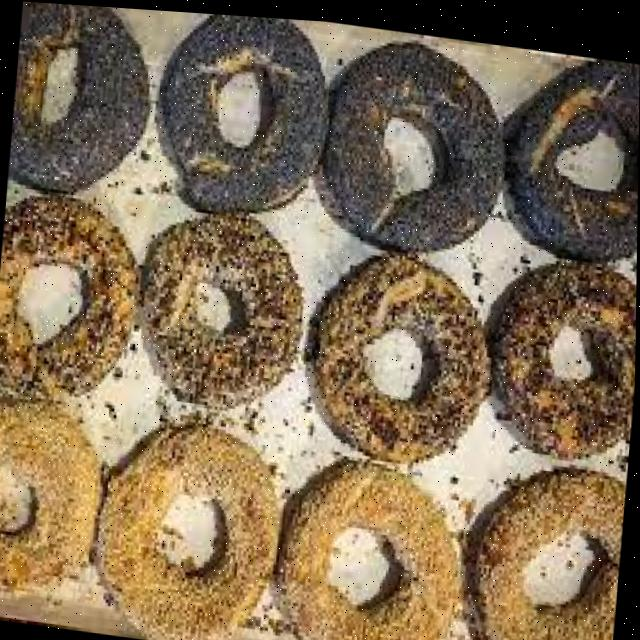Bagel: (97, 424, 276, 640), (313, 248, 491, 457), (318, 38, 500, 242), (278, 455, 459, 640), (158, 11, 327, 209), (142, 212, 301, 406), (493, 258, 637, 451), (503, 52, 640, 254), (475, 460, 627, 640), (0, 197, 138, 394), (8, 1, 147, 191), (0, 405, 100, 588)
